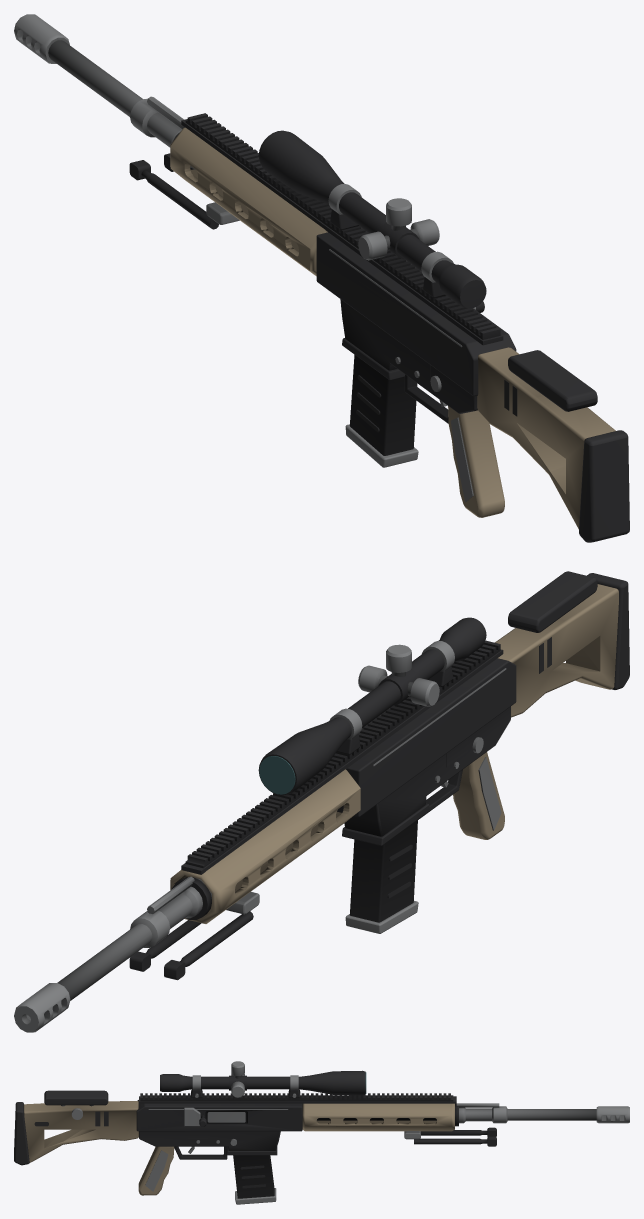
Rendered from talon_dmr.glb.
The picture shows the model from 3 angles, top to bottom: view 1: azimuth 30°, elevation 25°; view 2: azimuth 150°, elevation 25°; view 3: azimuth 270°, elevation 25°; orthographic projection. The views are drawn at different scales.
Visible parts, largest first — view 1: Receiver, Stock, Optic, Magazine, Barrel, Bipod, MuzzleBrake; view 2: Receiver, Stock, Optic, Magazine, Barrel, Bipod, MuzzleBrake, OpticGlass; view 3: Receiver, Stock, Optic, Barrel, Magazine, Bipod, MuzzleBrake, Bolt.
Boxes of the visible parts, x1,y1,x2,y2 form: Receiver: [170, 113, 516, 517]; Stock: [477, 347, 629, 542]; Optic: [258, 130, 486, 308]; Magazine: [345, 354, 418, 467]; Barrel: [48, 40, 195, 169]; Bipod: [129, 153, 239, 229]; MuzzleBrake: [14, 14, 69, 63]; Receiver: [170, 640, 516, 923]; Stock: [495, 571, 629, 717]; Optic: [258, 617, 486, 795]; Magazine: [345, 820, 418, 933]; Barrel: [57, 876, 211, 1000]; Bipod: [129, 892, 259, 980]; MuzzleBrake: [14, 983, 70, 1032]; OpticGlass: [259, 756, 295, 794]; Receiver: [136, 1093, 458, 1195]; Stock: [14, 1090, 138, 1165]; Optic: [160, 1061, 365, 1097]; Barrel: [456, 1103, 596, 1123]; Magazine: [233, 1155, 276, 1204]; Bipod: [404, 1127, 496, 1146]; MuzzleBrake: [596, 1106, 629, 1123]; Bolt: [207, 1112, 245, 1122].
Bounding box in the file's own units: 0.109 × 0.3186 × 1.3.
